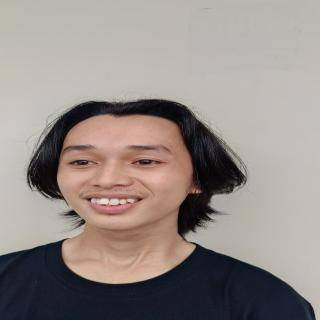Senang: (50, 112, 202, 233)
